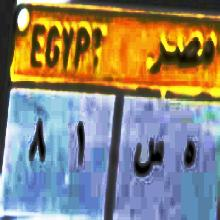1: (69, 113, 88, 170)
8: (24, 113, 48, 168)
haa: (178, 132, 197, 178)
seen: (133, 134, 166, 187)
